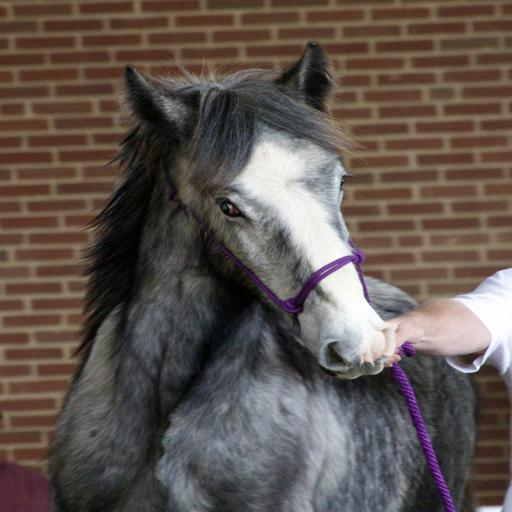horse: (41, 42, 482, 512)
